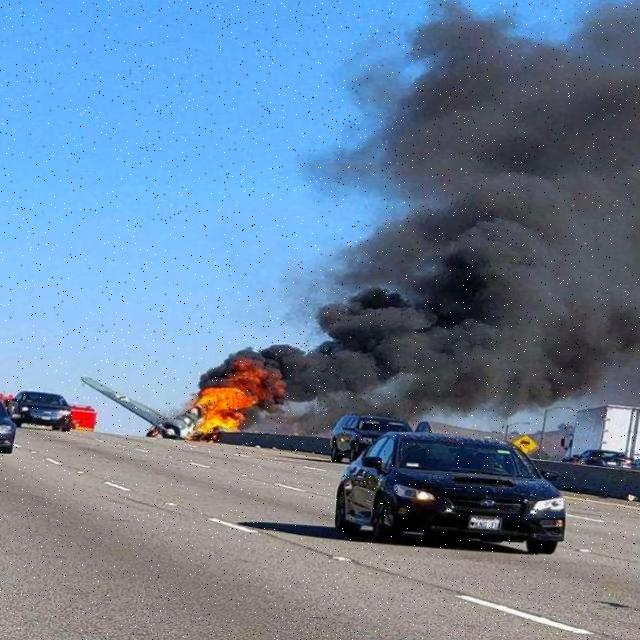fire: (171, 364, 273, 446)
smoke: (255, 233, 640, 402), (363, 9, 640, 237)
